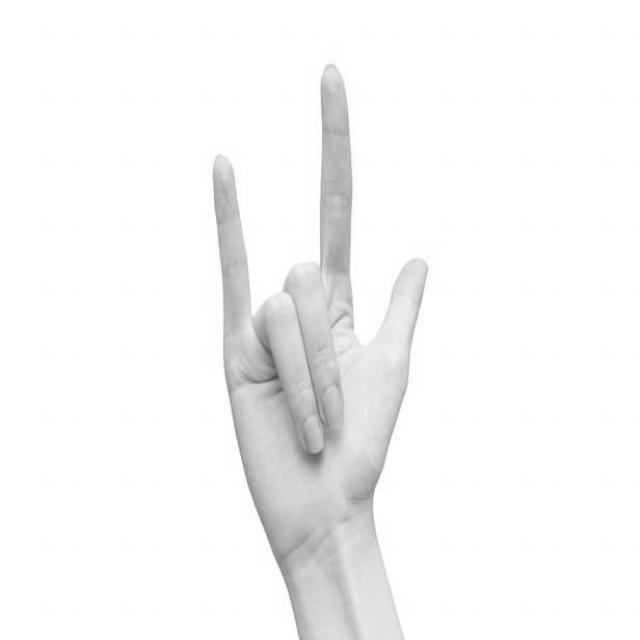i love you: (208, 53, 435, 594)
